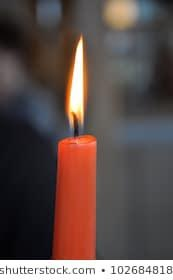fire: (64, 31, 86, 129)
